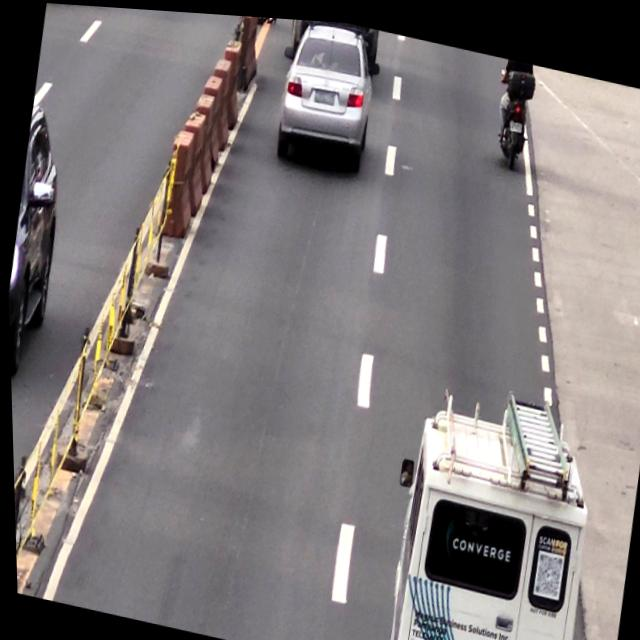Car: (272, 14, 381, 173)
License-Plate: (311, 81, 337, 105), (507, 112, 524, 127)
Motorcycle: (488, 51, 538, 159)
Truck: (375, 394, 598, 640)
